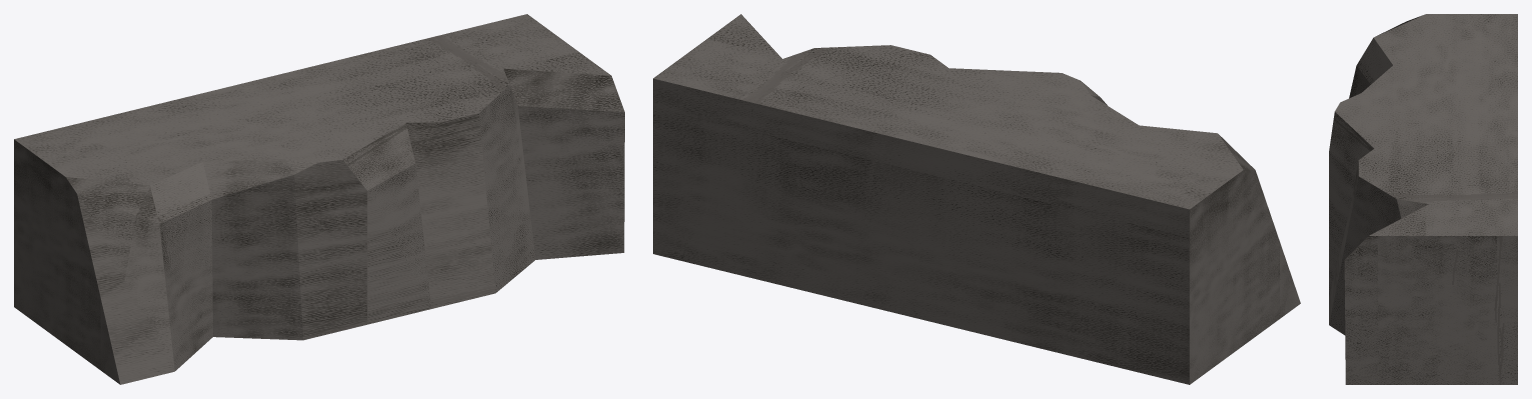
File: SM_dropoff.fbx
3 views of the same model, side by side, from view 1: azimuth 30°, elevation 25°; view 2: azimuth 150°, elevation 25°; view 3: azimuth 270°, elevation 25° (orthographic). The views are drawn at different scales.
Visible parts, largest first — view 1: Cube.015; view 2: Cube.015; view 3: Cube.015.
Boxes of the visible parts, box(x1,y1,x2,y2) form: Cube.015: box(14, 14, 624, 384); Cube.015: box(653, 14, 1300, 384); Cube.015: box(1329, 14, 1517, 384).
Size of the model in its own units: 640 by 200 by 230.
